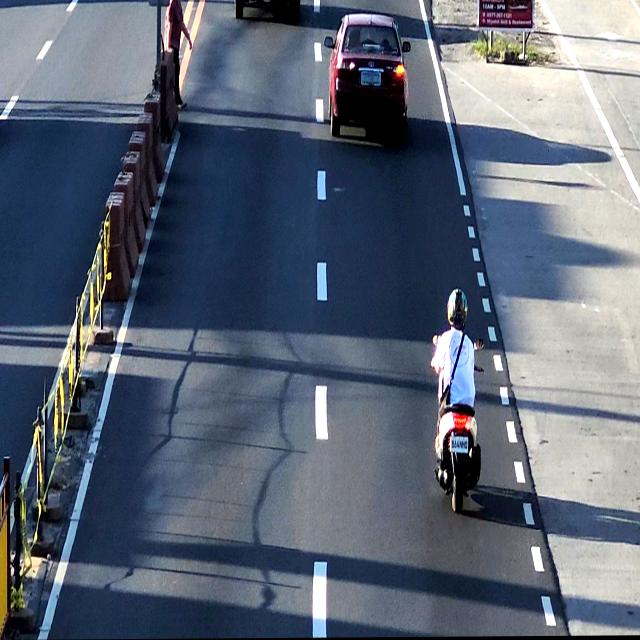Car: (324, 17, 414, 138), (232, 0, 302, 23)
License-Plate: (447, 436, 473, 456), (358, 68, 382, 88)
Motorcycle: (434, 290, 484, 518)
